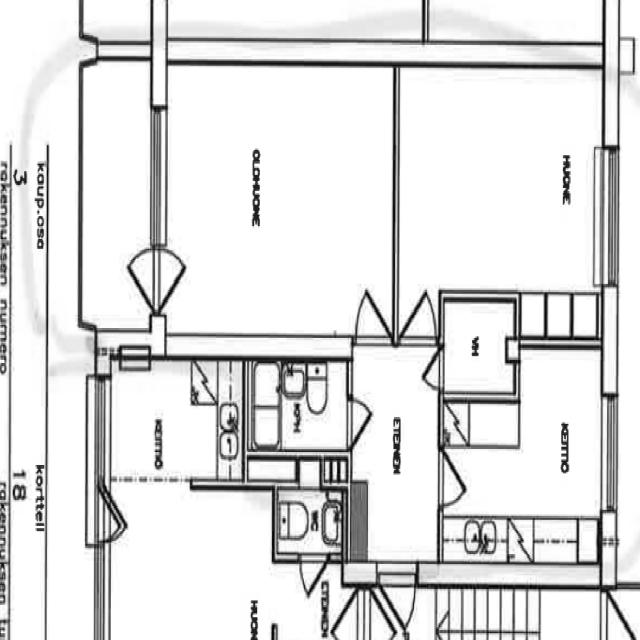door: (124, 241, 182, 309), (376, 560, 418, 630), (348, 283, 391, 348), (401, 287, 440, 348), (436, 446, 466, 512), (296, 548, 330, 598), (344, 392, 374, 446), (422, 345, 447, 395)
window: (85, 55, 161, 318), (591, 136, 624, 298), (144, 90, 172, 256), (597, 385, 620, 523), (90, 382, 114, 489)
zone: (157, 56, 400, 344), (393, 63, 609, 314), (437, 361, 609, 568), (80, 52, 157, 338), (347, 344, 440, 576), (105, 355, 241, 487), (430, 0, 606, 60), (440, 294, 520, 400), (278, 356, 350, 456), (273, 482, 348, 558), (245, 360, 282, 450)
